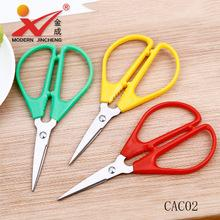scissor: (57, 101, 217, 201), (68, 34, 181, 164), (15, 43, 94, 190)
